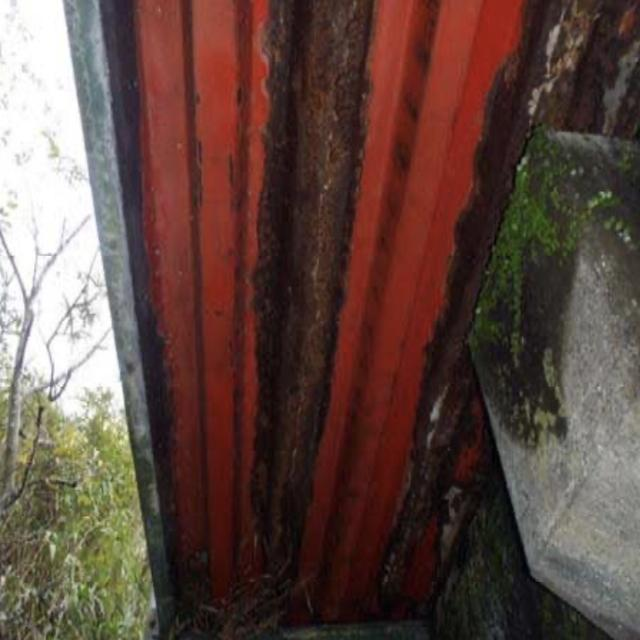corrosion: (233, 14, 560, 616)
